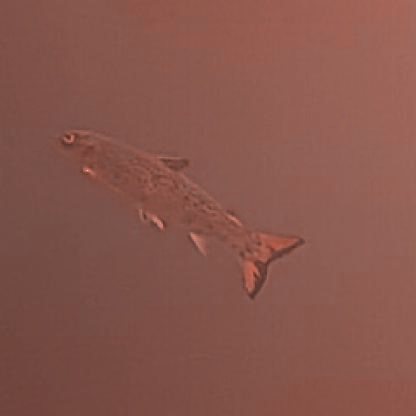salmon: (47, 121, 307, 302)
